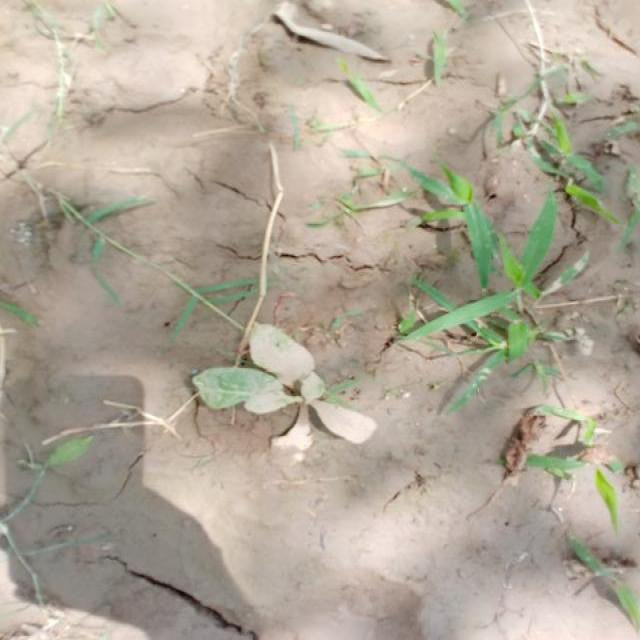crop: (184, 319, 378, 467)
